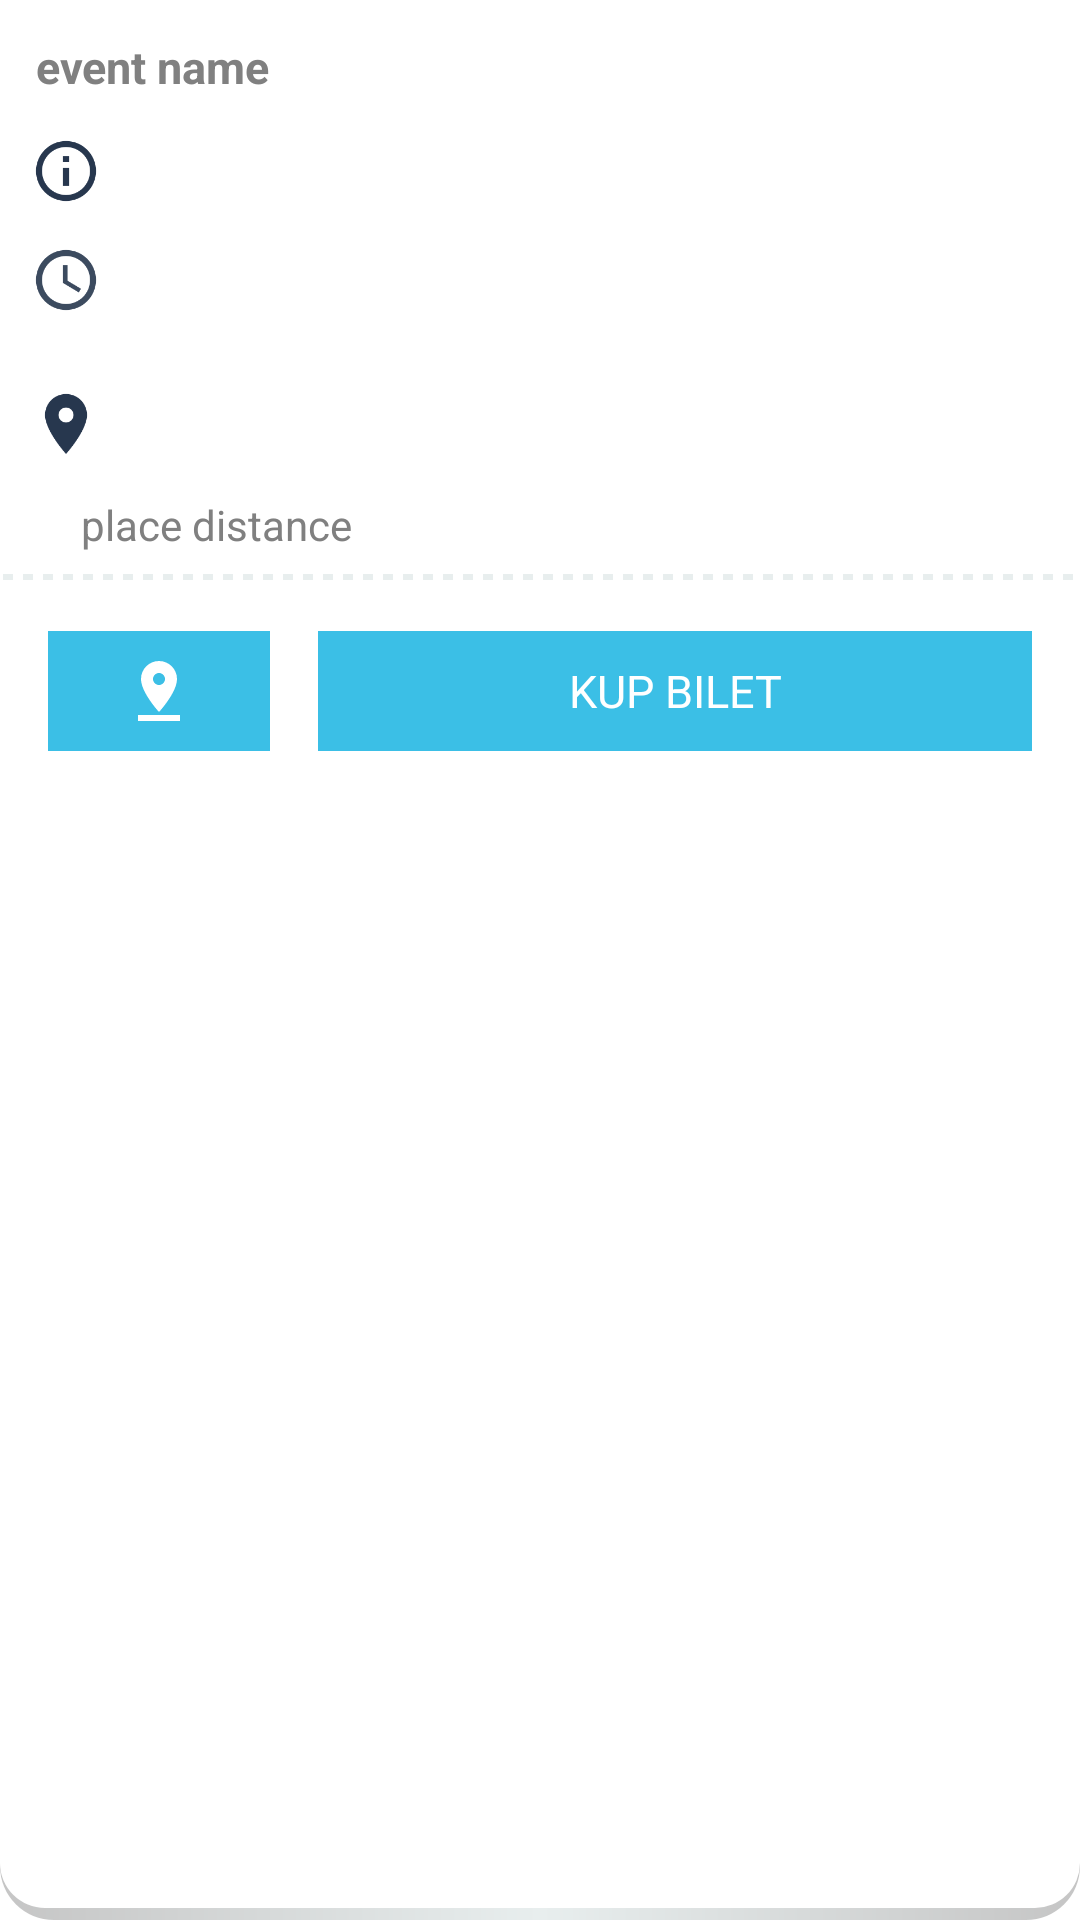

Screen size 1080w x 1920h. Icon name, then its center in pixels as (x=x, y=y):
maps pin drop: (x=159, y=691)
